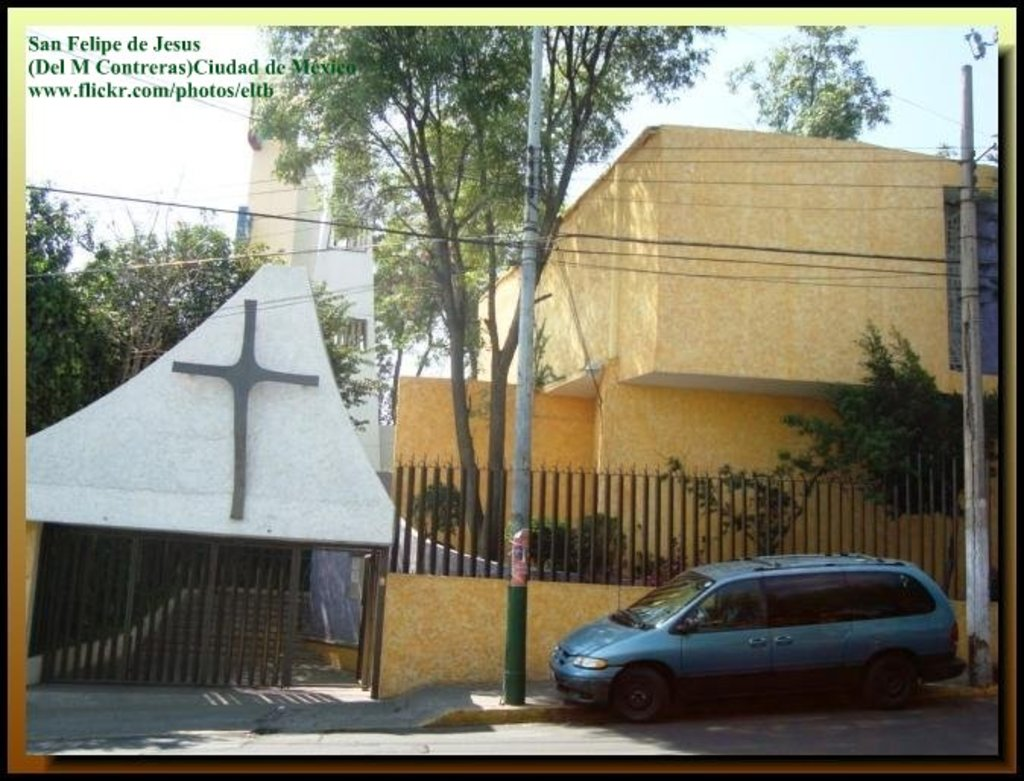Car: (548, 545, 969, 724)
